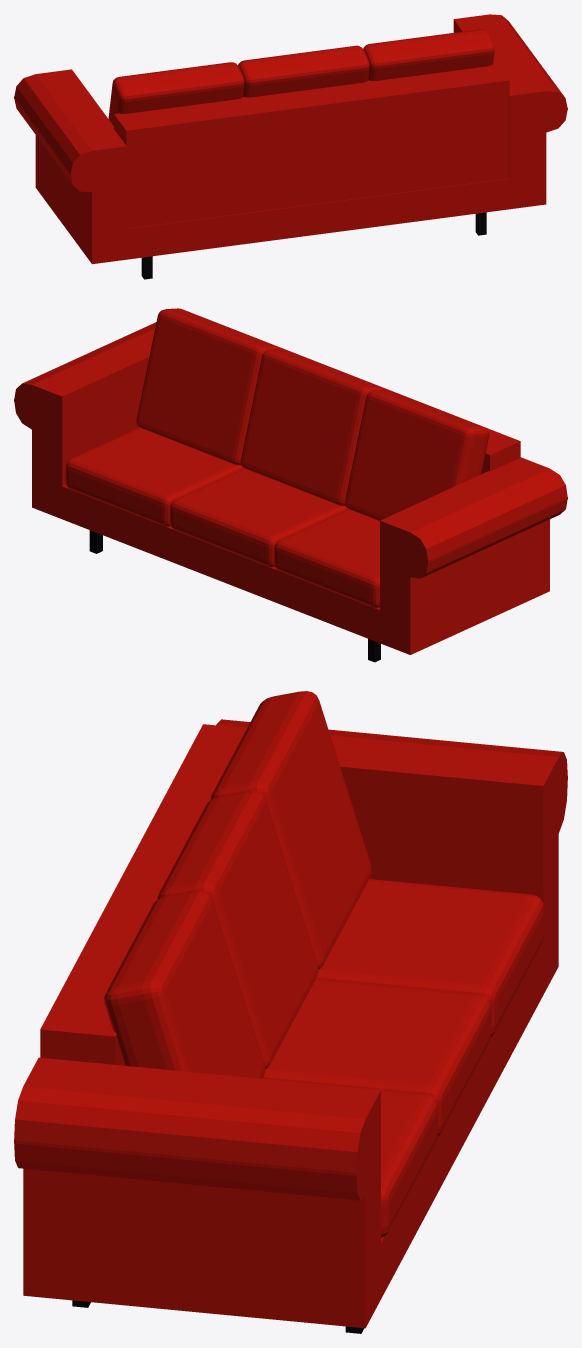
File: sofa.obj
3 renders of one model, top to bottom at view 1: azimuth 30°, elevation 25°; view 2: azimuth 150°, elevation 25°; view 3: azimuth 270°, elevation 25°, orthographic. The views are drawn at different scales.
Visible parts, largest first — view 1: Box002, Box001, Box008, Box006, Box007; view 2: Box001, Box006, Box007, Box008, Box005, Box004, Box003, Box002; view 3: Box001, Box003, Box004, Box006, Box008, Box007, Box002, Box005.
Part boxes in pixels (x1,y1,x2,y2): Box002: (114,63,509,228); Box001: (14,14,567,264); Box008: (108,62,244,125); Box006: (363,29,494,80); Box007: (238,45,369,97); Box001: (14,322,567,654); Box006: (136,308,279,465); Box007: (240,349,383,505); Box008: (345,389,489,520); Box005: (65,427,243,526); Box004: (170,468,347,567); Box003: (274,508,379,607); Box002: (276,346,520,473); Box001: (14,719,567,1328); Box003: (316,879,544,1036); Box004: (263,978,491,1136); Box006: (104,890,265,1078); Box008: (210,691,371,969); Box007: (157,790,318,1069); Box002: (40,724,246,1065); Box005: (262,1078,437,1237).
Bounding box in the file's own units: 211253 × 78173 × 115277.
